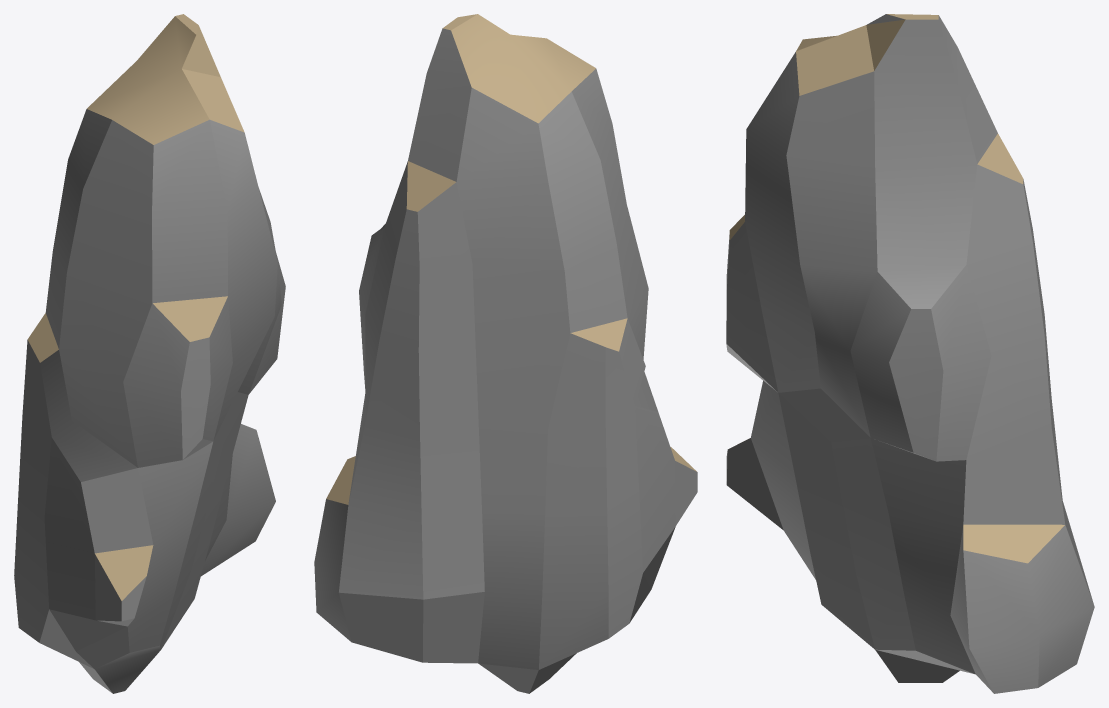
File: rock18.glb
3 renders of one model, left to right at view 1: azimuth 30°, elevation 25°; view 2: azimuth 150°, elevation 25°; view 3: azimuth 270°, elevation 25°, orthographic. The views are drawn at different scales.
Parts seen in each view (by area): view 1: rock.008_0; view 2: rock.008_0; view 3: rock.008_0.
Part boxes in pixels (bbox=[...]): rock.008_0: bbox=[14, 14, 285, 693]; rock.008_0: bbox=[314, 14, 697, 693]; rock.008_0: bbox=[726, 14, 1094, 693].
Size of the model in its own units: 5.73 by 12.86 by 6.09.
